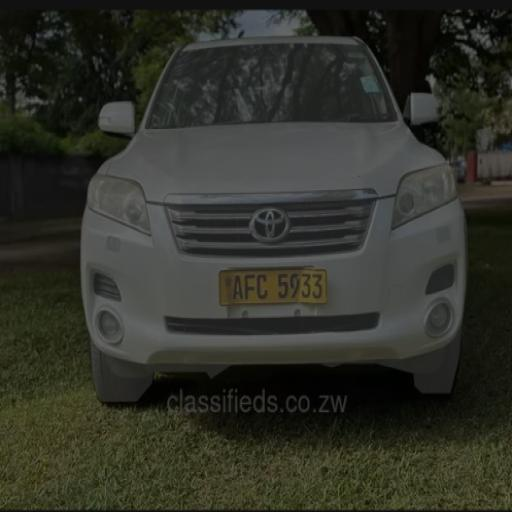number-plates: (221, 266, 326, 307)
